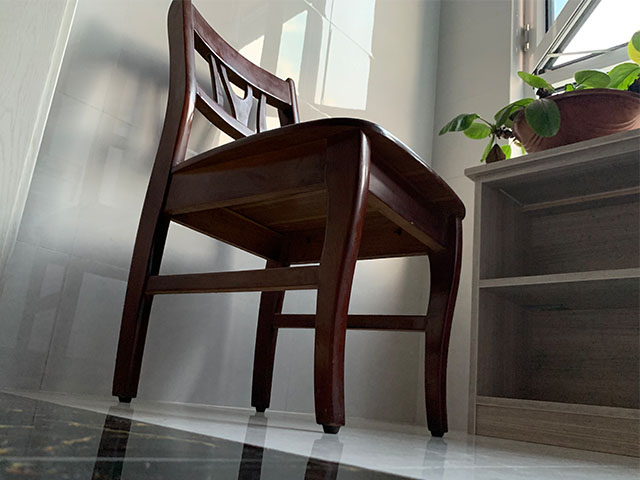stool: (111, 1, 468, 438)
